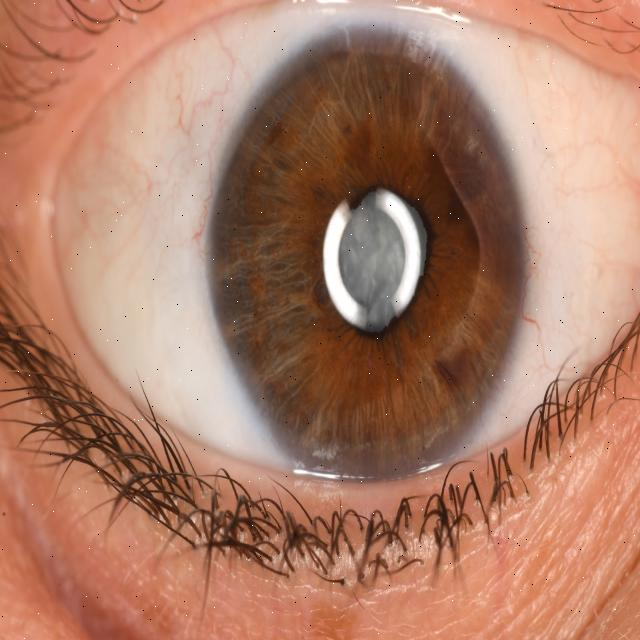Cataract: (212, 16, 526, 492)
